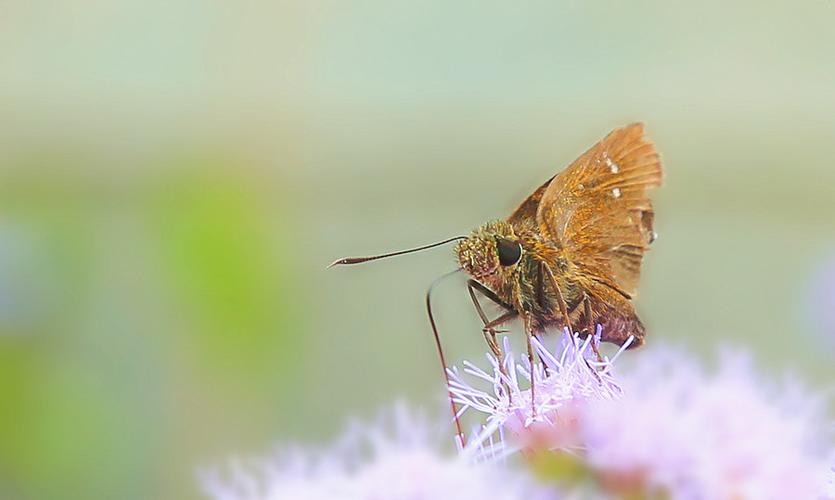Hesperiidae: (328, 113, 670, 449)
